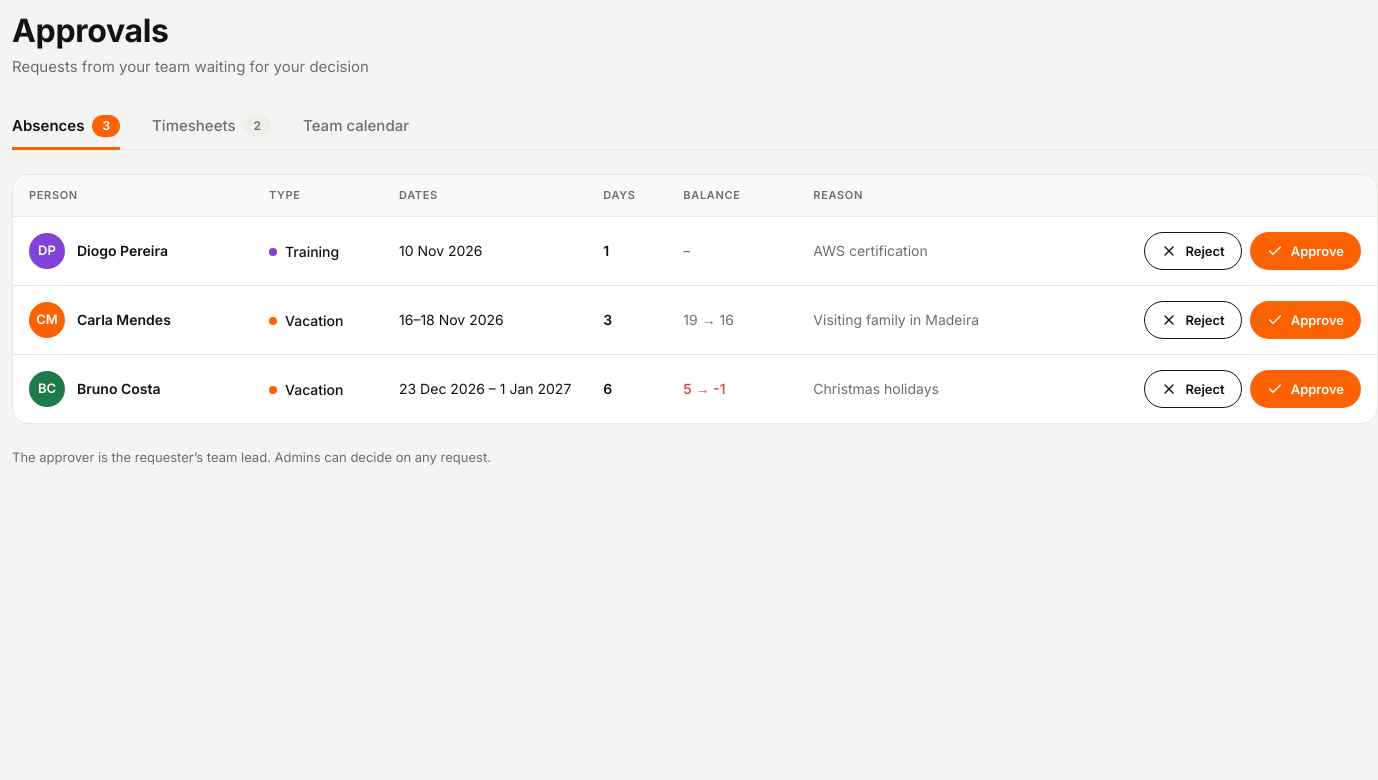
Test case: ApprovalsView, Team calendar tab › is the third tab, selected by ?tab=team-calendar
The image size is (1378, 780).
Expected: the element showing "Absences 3 Timesheets 2 Team calendar" is shown, left=12, top=103, right=1377, bottom=150
Click the tab "Team calendar" at (356, 126), box left=303, top=103, right=409, bottom=149
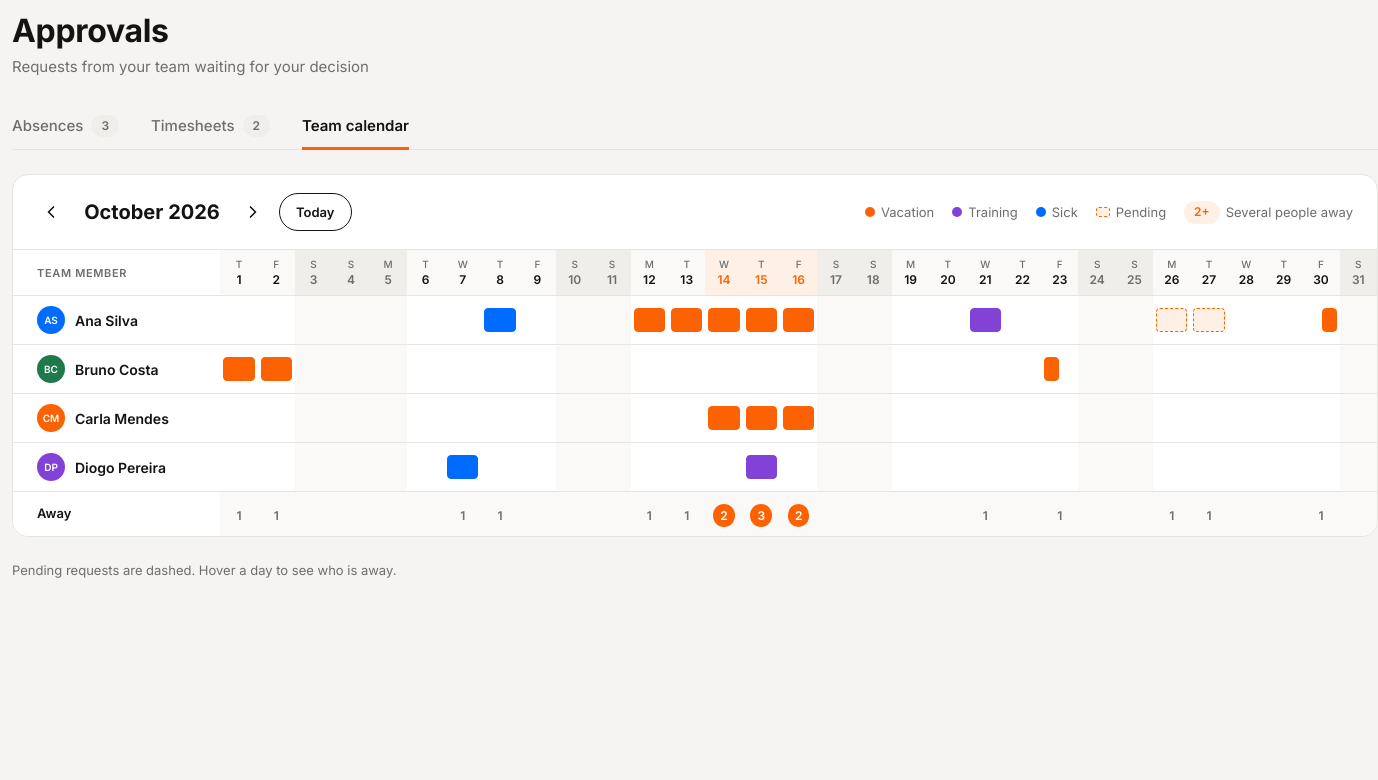
Expected: the table is shown, left=13, top=250, right=1377, bottom=536
